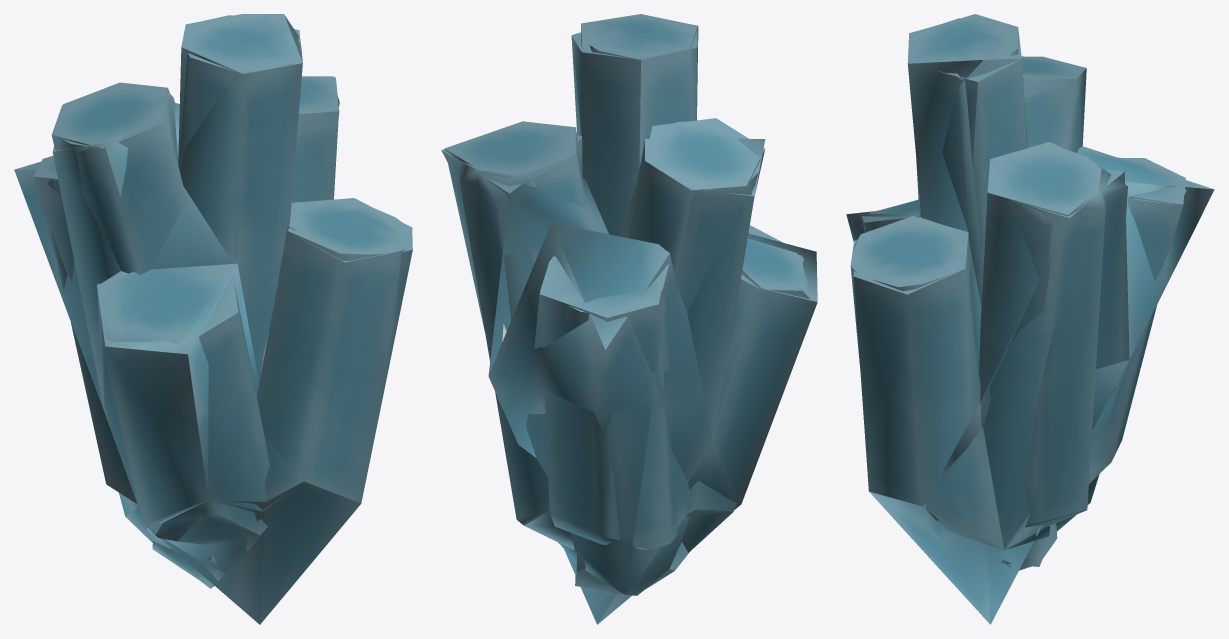
The model's file is objects_un_a_w23crystal01_07.gltf.
3 views of the same model, side by side, from view 1: azimuth 30°, elevation 25°; view 2: azimuth 150°, elevation 25°; view 3: azimuth 270°, elevation 25° (orthographic). The views are drawn at different scales.
Parts seen in each view (by area): view 1: um_objects_un_a_w23crystal01_07_model_lod1Shape:crystal03_ou, um_objects_un_a_w23crystal01_07_model_lod2Shape:crystal03_ou, um_objects_un_a_w23crystal01_07_model_lod0Shape:crystal03_ou; view 2: um_objects_un_a_w23crystal01_07_model_lod1Shape:crystal03_ou, um_objects_un_a_w23crystal01_07_model_lod2Shape:crystal03_ou, um_objects_un_a_w23crystal01_07_model_lod0Shape:crystal03_ou; view 3: um_objects_un_a_w23crystal01_07_model_lod2Shape:crystal03_ou, um_objects_un_a_w23crystal01_07_model_lod1Shape:crystal03_ou, um_objects_un_a_w23crystal01_07_model_lod0Shape:crystal03_ou.
Boxes of the visible parts, x1,y1,x2,y2 form: um_objects_un_a_w23crystal01_07_model_lod1Shape:crystal03_ou: [33, 14, 412, 588]; um_objects_un_a_w23crystal01_07_model_lod2Shape:crystal03_ou: [14, 14, 412, 624]; um_objects_un_a_w23crystal01_07_model_lod0Shape:crystal03_ou: [48, 15, 410, 580]; um_objects_un_a_w23crystal01_07_model_lod1Shape:crystal03_ou: [444, 14, 810, 595]; um_objects_un_a_w23crystal01_07_model_lod2Shape:crystal03_ou: [441, 22, 817, 624]; um_objects_un_a_w23crystal01_07_model_lod0Shape:crystal03_ou: [458, 15, 804, 593]; um_objects_un_a_w23crystal01_07_model_lod2Shape:crystal03_ou: [846, 14, 1214, 624]; um_objects_un_a_w23crystal01_07_model_lod1Shape:crystal03_ou: [850, 14, 1185, 566]; um_objects_un_a_w23crystal01_07_model_lod0Shape:crystal03_ou: [852, 18, 1186, 570].
Bounding box in the file's own units: 4.47 × 8.44 × 4.91.
Materials: 2 (1 with a texture image).
